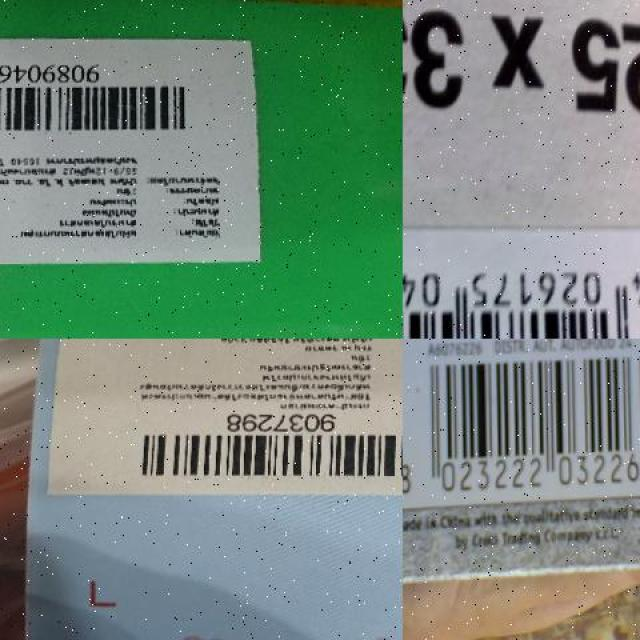Barcode: (402, 338, 640, 510), (116, 405, 403, 495), (402, 238, 640, 338), (0, 54, 196, 142)
